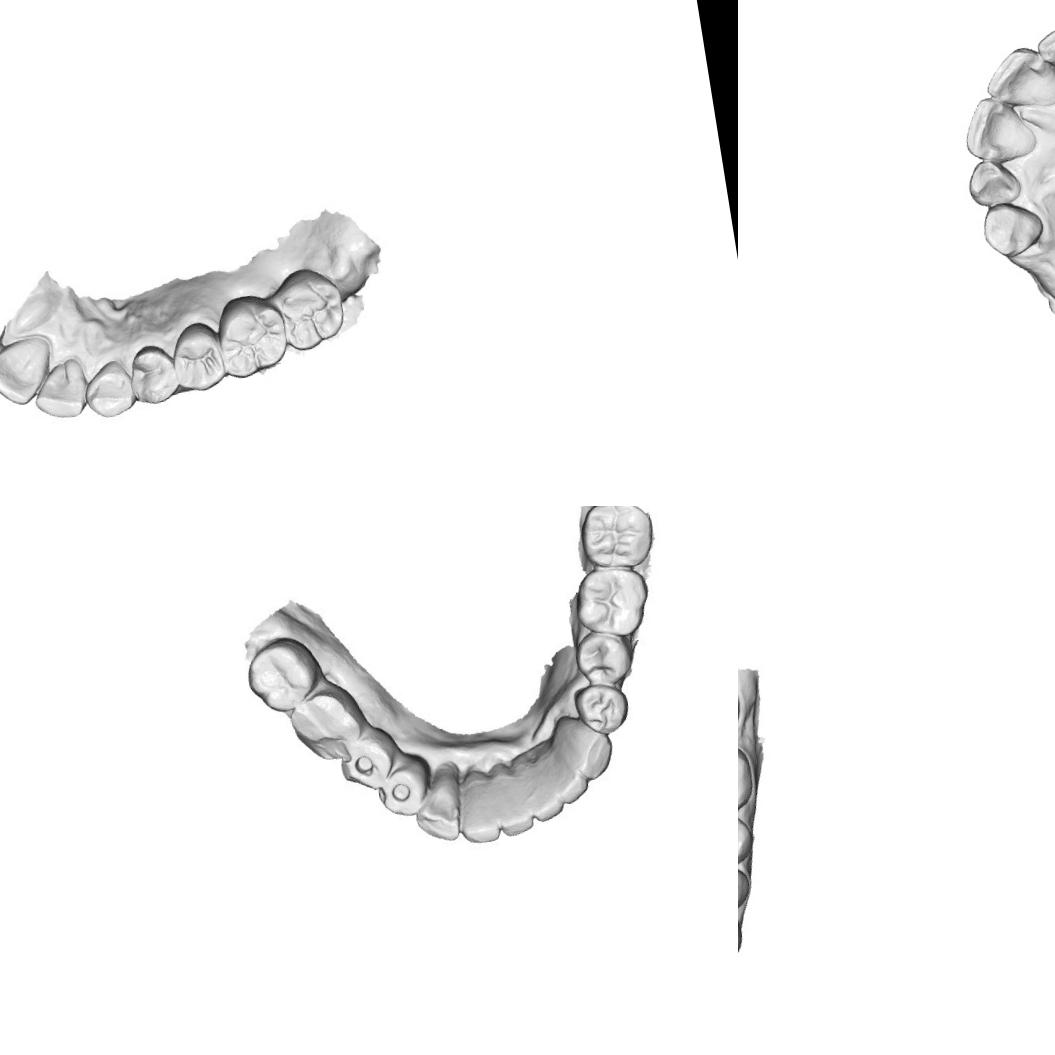canine: (552, 708, 621, 784), (408, 768, 468, 848), (978, 196, 1050, 260), (80, 356, 134, 424)
incisor: (957, 89, 1039, 168), (979, 40, 1055, 116), (456, 768, 507, 848), (488, 762, 538, 840), (535, 735, 588, 805), (32, 362, 92, 422), (963, 154, 1024, 210), (516, 749, 564, 820), (0, 340, 52, 403), (1032, 20, 1055, 85)
molar: (266, 260, 352, 352), (210, 285, 291, 381), (575, 506, 661, 577), (576, 563, 650, 638), (288, 690, 362, 764), (244, 640, 318, 712), (738, 733, 758, 821)
premolar: (168, 318, 228, 398), (126, 340, 178, 410), (339, 733, 397, 790), (576, 628, 630, 683), (375, 764, 430, 818), (580, 678, 633, 730), (738, 808, 757, 870), (738, 857, 752, 917)
